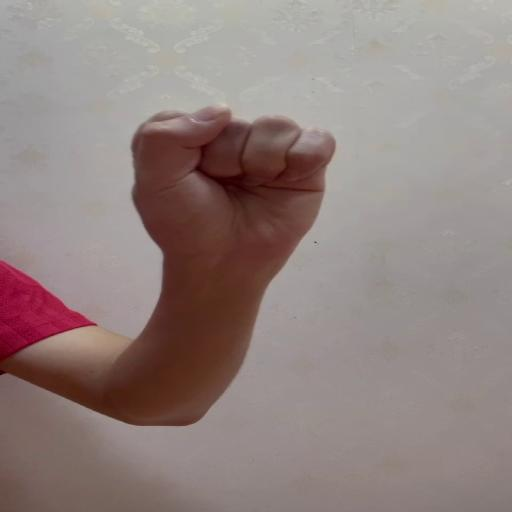fist: (128, 103, 338, 257)
